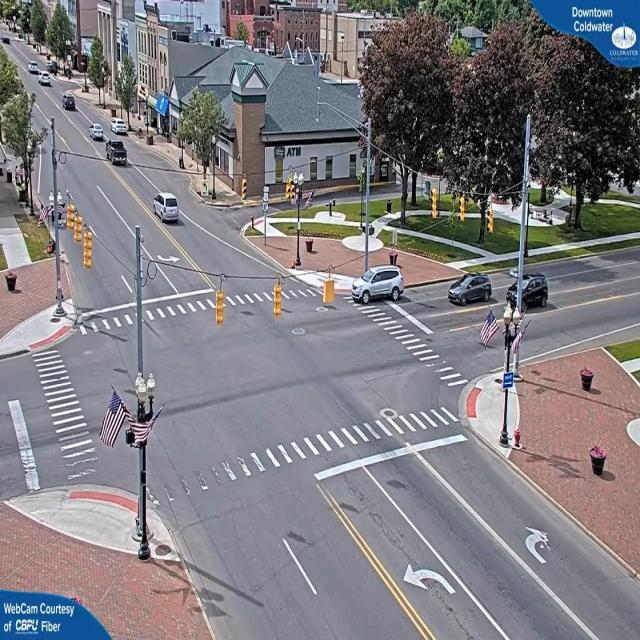car: (357, 269, 405, 306), (448, 273, 493, 308), (152, 193, 182, 225), (524, 276, 552, 310), (108, 142, 129, 166), (111, 120, 129, 136), (90, 124, 106, 141), (62, 93, 77, 111), (41, 74, 53, 88), (28, 61, 40, 74)
